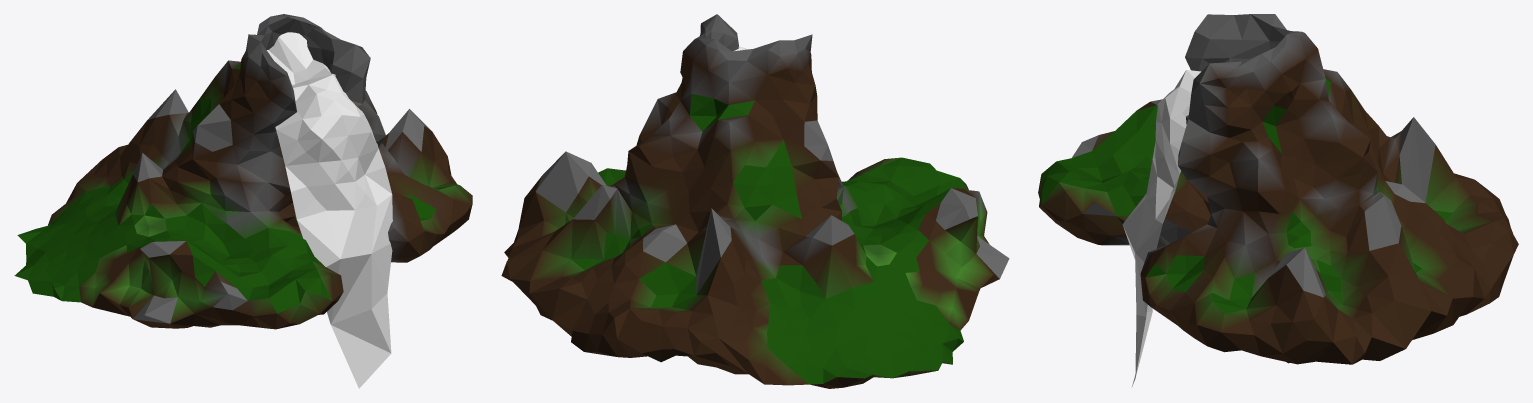
The model's file is WaterFall.fbx.
The picture shows the model from 3 angles, left to right: view 1: azimuth 30°, elevation 25°; view 2: azimuth 150°, elevation 25°; view 3: azimuth 270°, elevation 25°; orthographic projection. The views are drawn at different scales.
Visible parts, largest first — view 1: Cone, Water; view 2: Cone; view 3: Cone, Water.
Boxes of the visible parts, box(x1,y1,x2,y2) form: Cone: box(14, 14, 472, 329); Water: box(267, 32, 392, 388); Cone: box(501, 14, 1009, 388); Cone: box(1038, 14, 1518, 364); Water: box(1122, 70, 1200, 387).
Size of the model in its own units: 14075 by 10600 by 13054.
